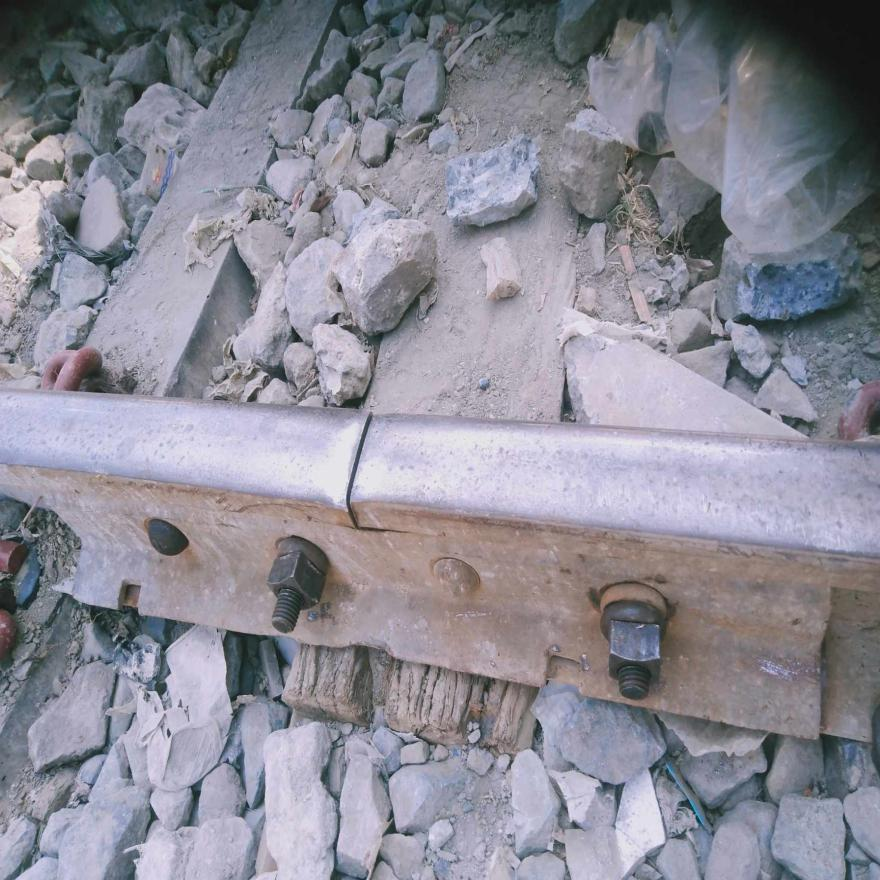railway-gap: (298, 387, 430, 559)
